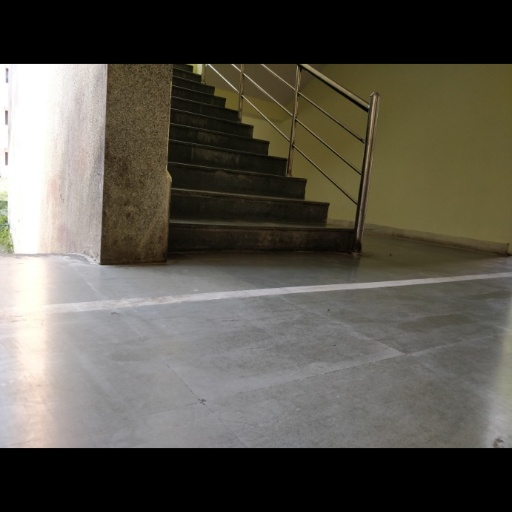Stairs: (168, 66, 355, 252)
